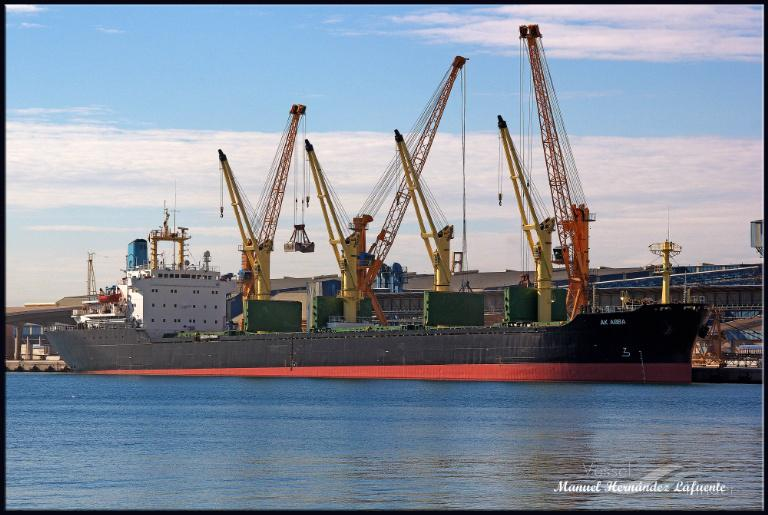OCR: (590, 310, 628, 328)
